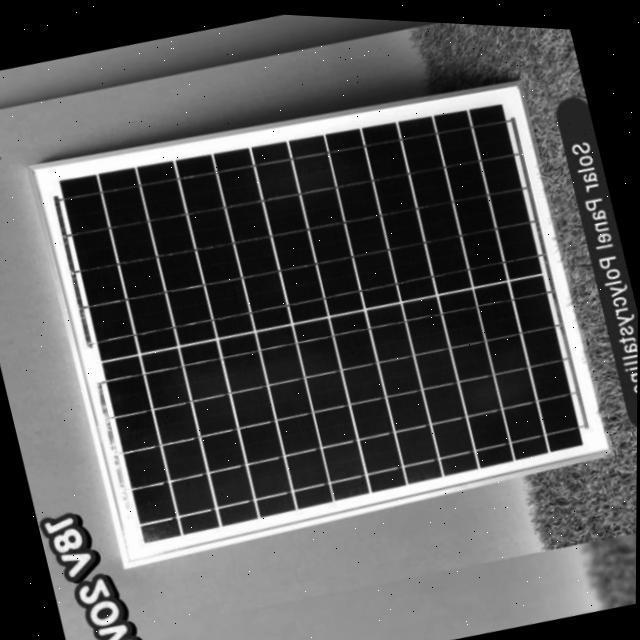Normal Solar Panel: (28, 45, 620, 578)
